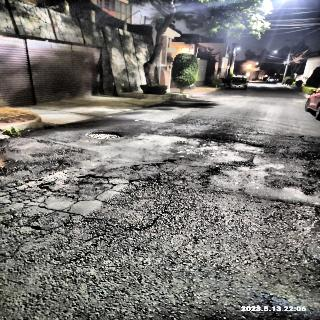alligator-crack: (0, 166, 130, 238)
pothole: (74, 116, 136, 144)
